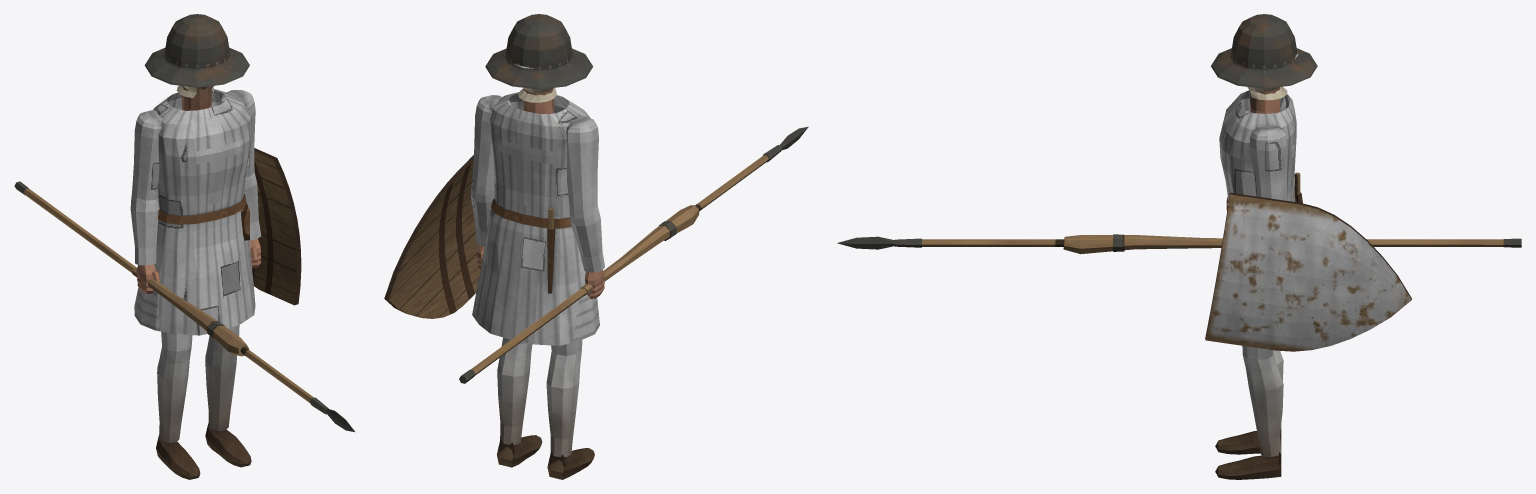
The model's file is levy.glb.
The picture shows the model from 3 angles, left to right: view 1: azimuth 30°, elevation 25°; view 2: azimuth 150°, elevation 25°; view 3: azimuth 270°, elevation 25°; orthographic projection. The views are drawn at different scales.
Visible parts, largest first — view 1: levy_LOD0; view 2: levy_LOD0; view 3: levy_LOD0.
Boxes of the visible parts, x1=… form: levy_LOD0: x1=14, y1=14, x2=354, y2=479; levy_LOD0: x1=384, y1=14, x2=808, y2=479; levy_LOD0: x1=837, y1=14, x2=1521, y2=479.
Size of what is drawn, in the model's own units: 0.6031 by 1.8 by 2.51.
Materials: 1 (1 with a texture image).
